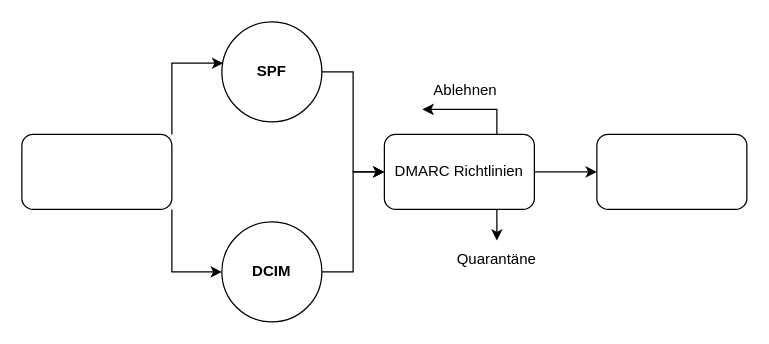
Image size: 769x344. Some labels were removed from this diagram. Each missing label, with the centre of its shape:
E-Mail: [96,171]
Empfänger: [671,171]
